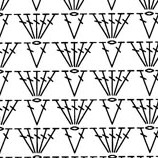enseble_chain: (29, 9, 65, 46), (105, 66, 141, 103), (105, 122, 141, 158), (66, 94, 102, 130), (30, 66, 65, 103), (30, 123, 66, 158), (67, 38, 102, 73), (124, 94, 154, 130), (0, 94, 28, 132), (12, 65, 41, 101), (13, 9, 42, 45), (12, 123, 41, 158), (87, 65, 115, 101), (0, 37, 27, 74), (100, 96, 131, 128), (102, 39, 132, 72), (26, 97, 56, 129), (27, 40, 57, 72), (51, 95, 79, 129), (67, 68, 95, 101), (127, 38, 154, 71), (66, 126, 94, 157), (53, 38, 78, 71), (67, 12, 93, 43), (134, 67, 157, 99), (59, 68, 81, 100), (94, 125, 116, 156), (139, 12, 158, 42), (139, 127, 158, 157), (107, 12, 124, 39), (143, 98, 158, 125)
fan: (106, 126, 121, 154)
